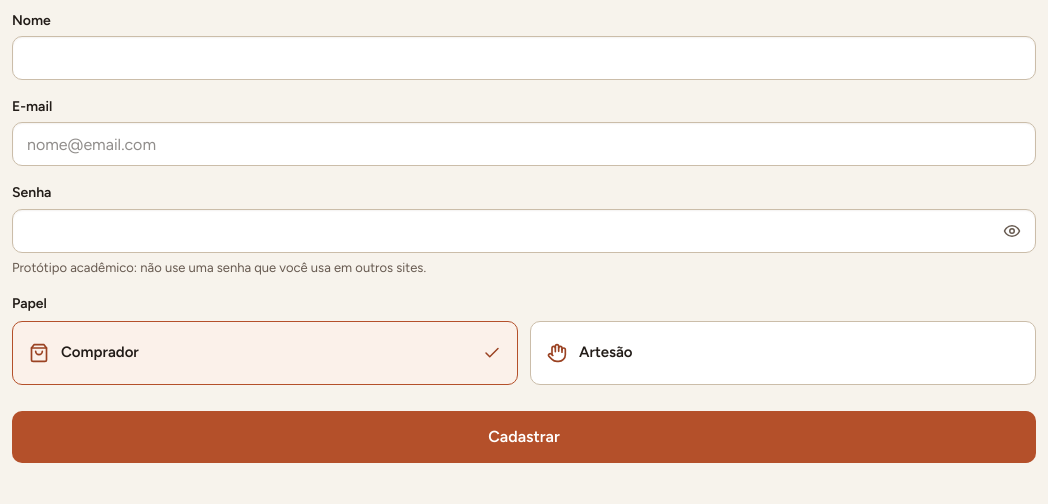
it: CadastroForm › senha curta bloqueia envio e mostra erro no campo
The image size is (1048, 504).
Type "Maria Artesa" into the field labelled "Nome".
click(524, 58); type("Maria Artesa")  # box [12,36,1036,80]
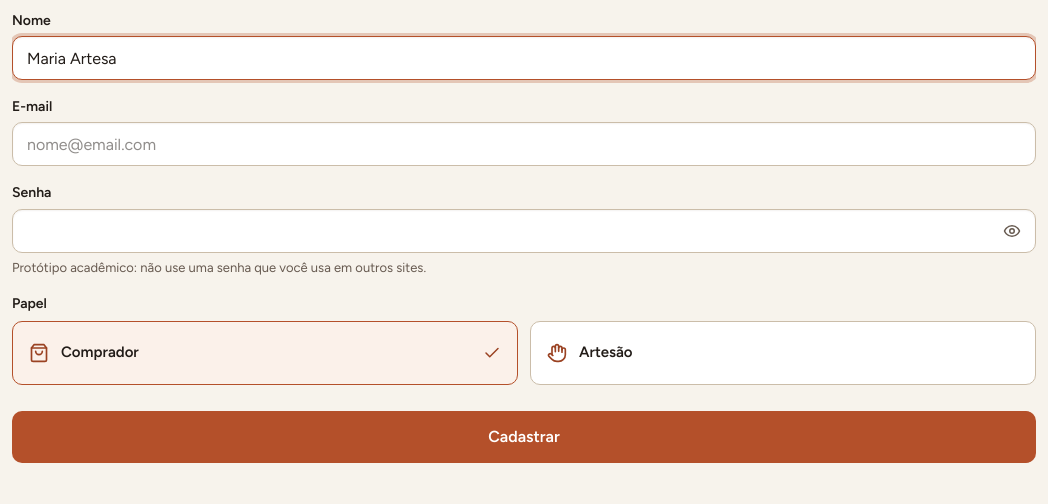
Type "maria@origem.test" into the field labelled "E-mail".
click(524, 144); type("maria@origem.test")  # box [12,122,1036,166]
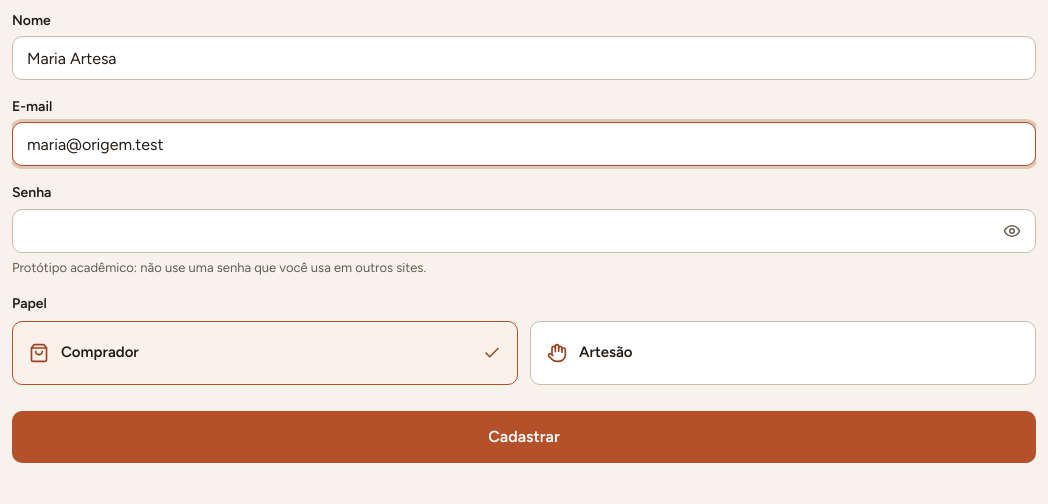
Type "curta12" into the password field labelled "Senha".
click(524, 231); type("curta12")  # box [12,209,1036,253]
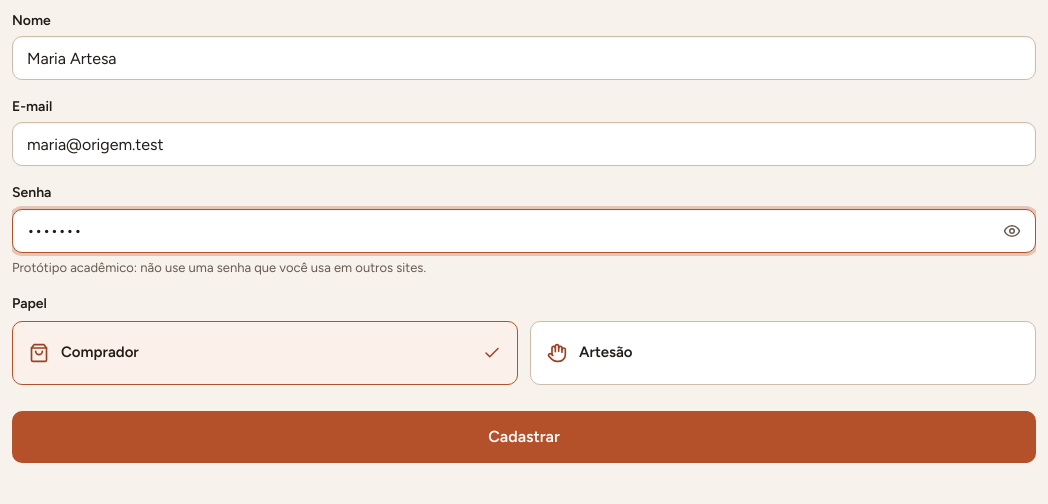
Click the button "Cadastrar".
click(524, 437)  # box [12,411,1036,463]
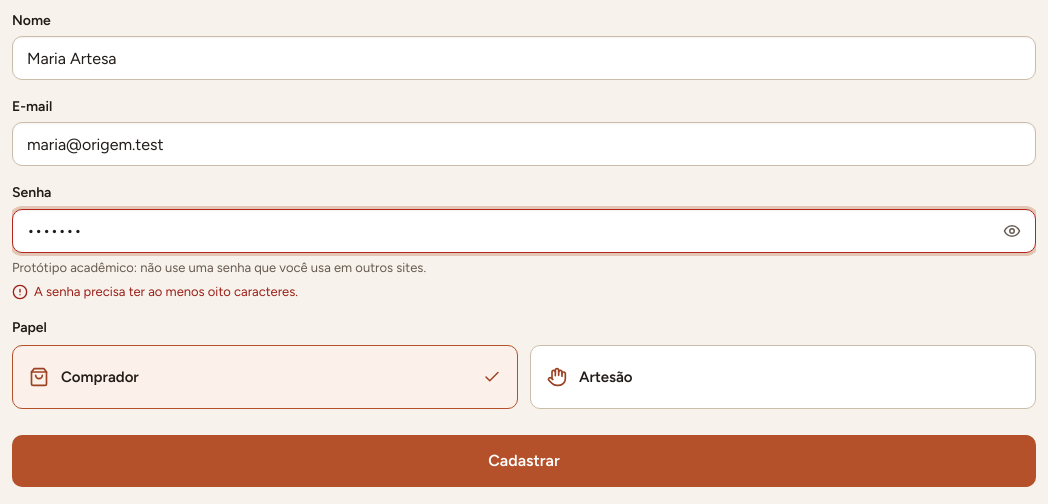
Expected: the text "A senha precisa ter ao menos oito caracteres." is shown, [12,284,298,300]
